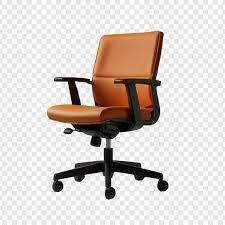chair: (47, 28, 171, 200)
